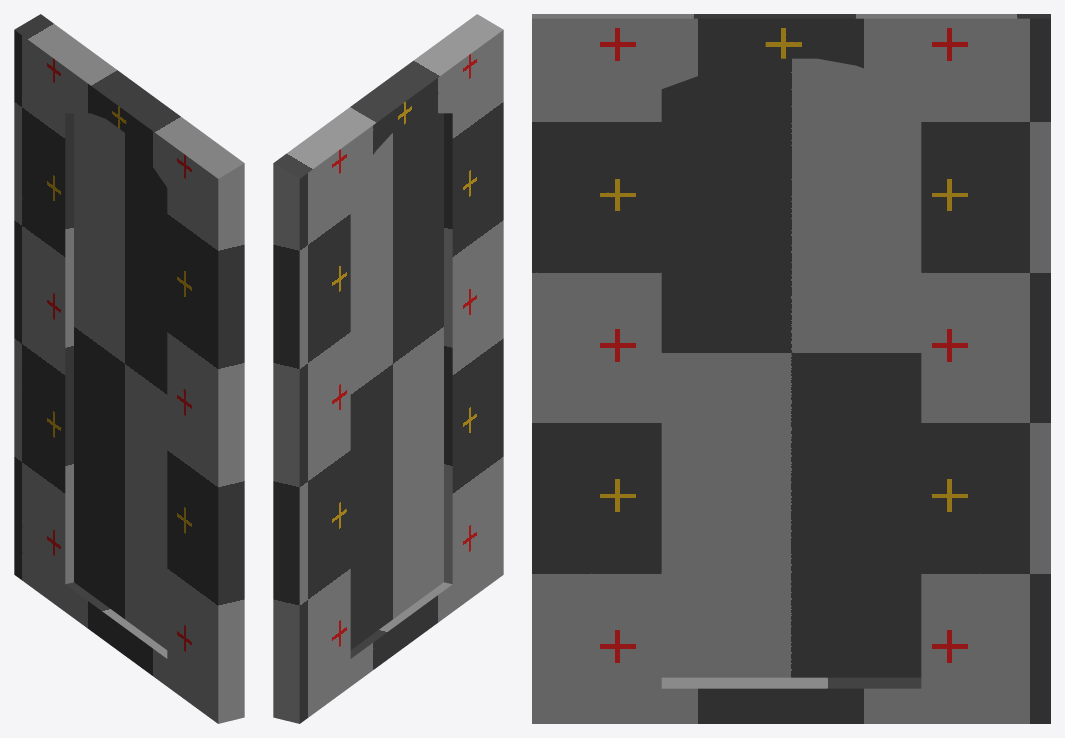
File: window_big.fbx
The picture shows the model from 3 angles, left to right: view 1: azimuth 30°, elevation 25°; view 2: azimuth 150°, elevation 25°; view 3: azimuth 270°, elevation 25°; orthographic projection. The views are drawn at different scales.
Visible parts, largest first — view 1: window big; view 2: window big; view 3: window big.
Part boxes in pixels (left/top/right/bottom): window big: left=14, top=14, right=244, bottom=723; window big: left=273, top=14, right=503, bottom=723; window big: left=532, top=14, right=1050, bottom=723.
Size of the model in its own units: 30 by 600 by 400.
